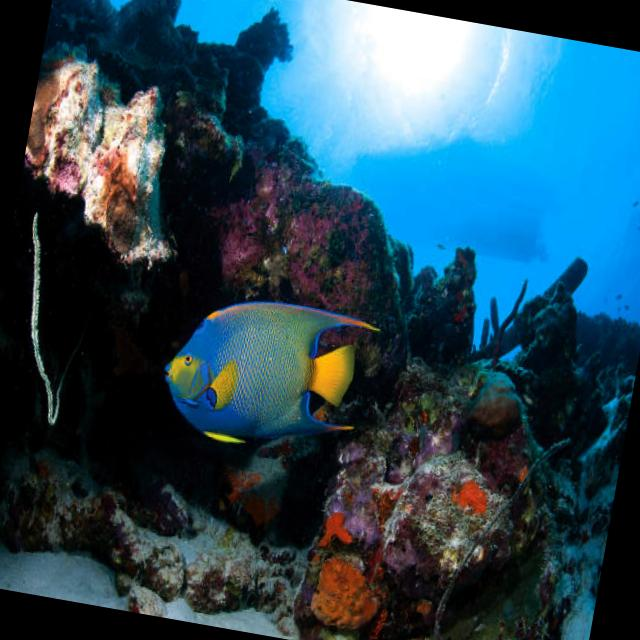AngelFish: (152, 287, 382, 464)
